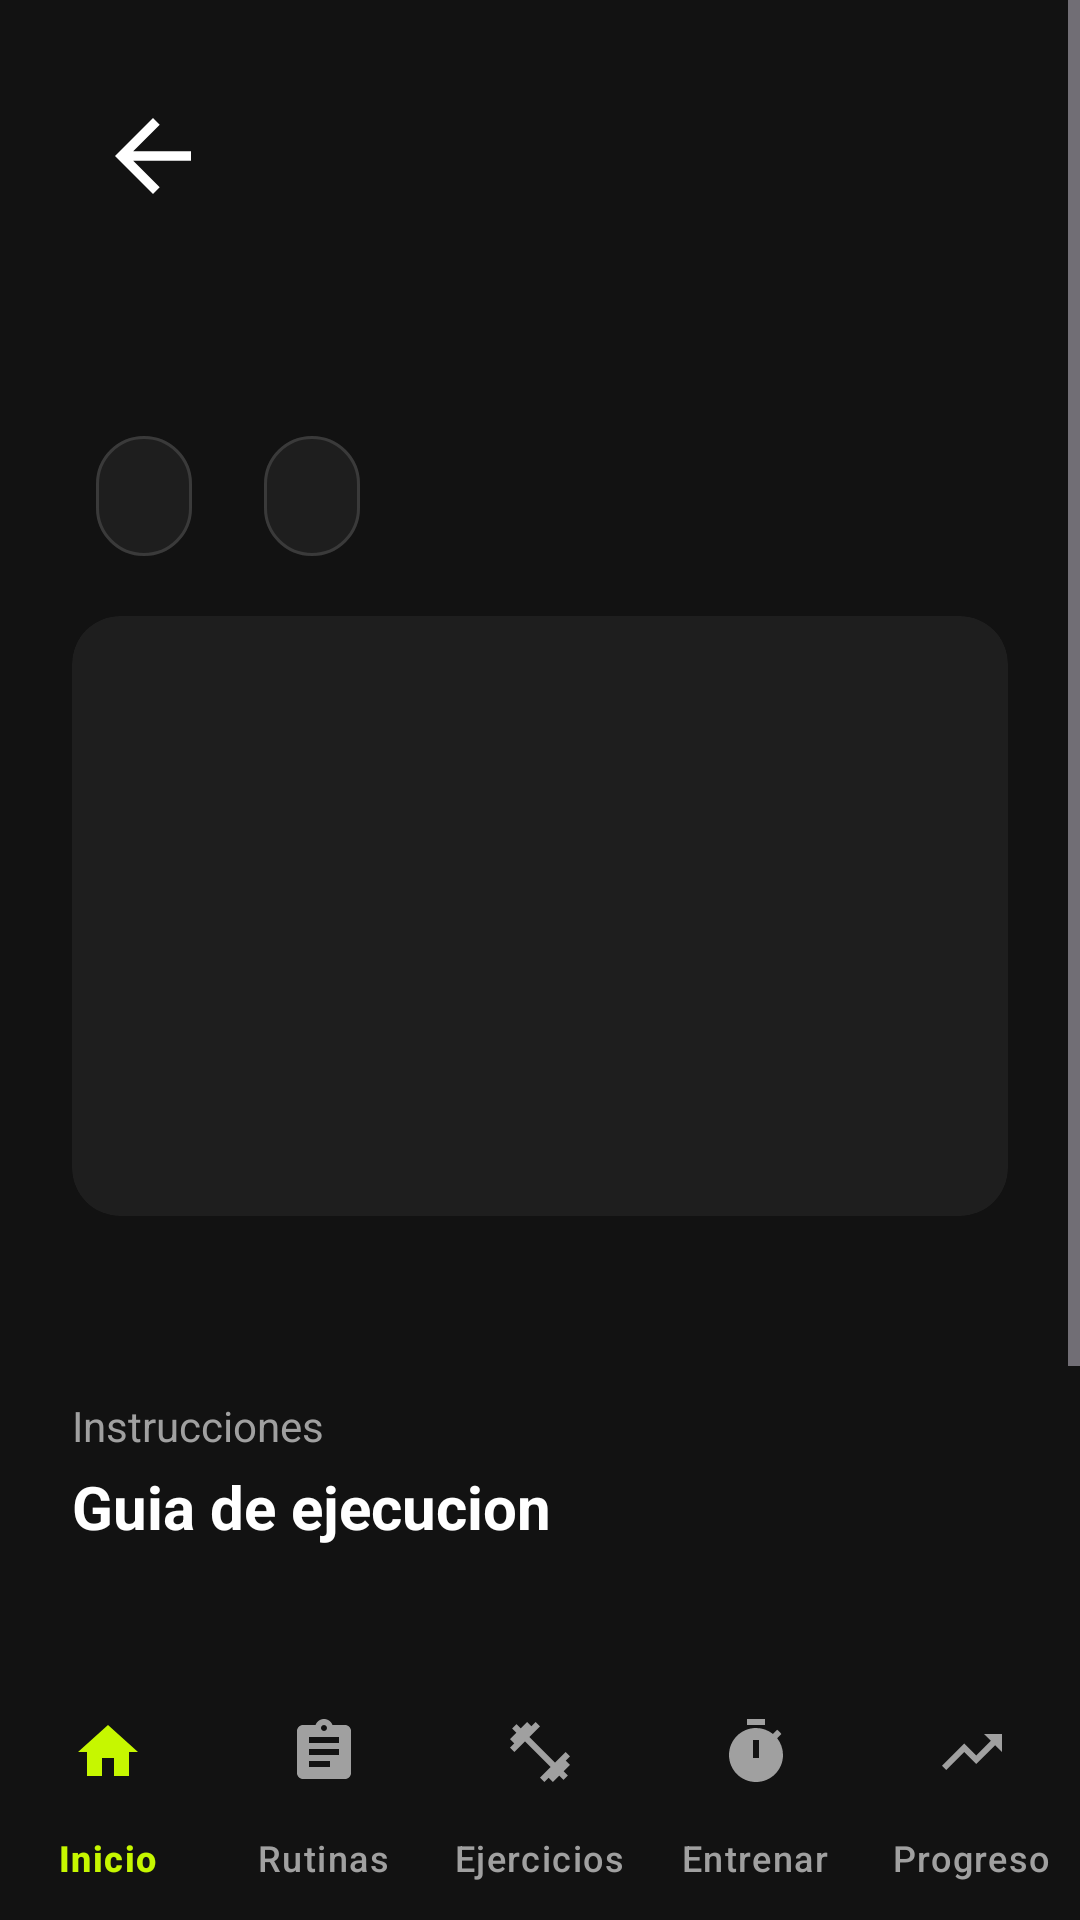

Screen size 1080*1920. Icon name, then its box in pixels as region(x1, y1, x2, y2):
Volver: region(115, 118, 191, 194)
